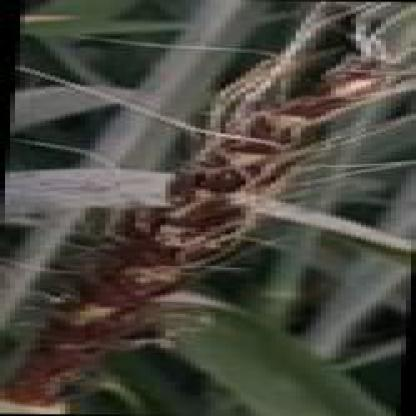Wheat Smut: (111, 243, 207, 267), (140, 220, 230, 241), (82, 270, 152, 293), (63, 299, 125, 323), (184, 166, 241, 192), (175, 196, 236, 218), (4, 377, 56, 401), (250, 121, 324, 136), (45, 328, 97, 349), (29, 354, 84, 373), (337, 70, 382, 92), (216, 138, 269, 154), (281, 98, 339, 112), (160, 269, 184, 286)
